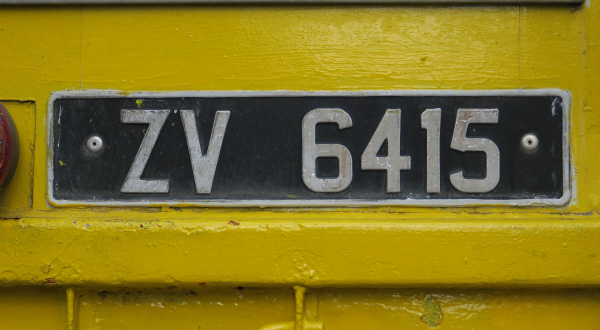license_plate: (49, 91, 570, 208)
